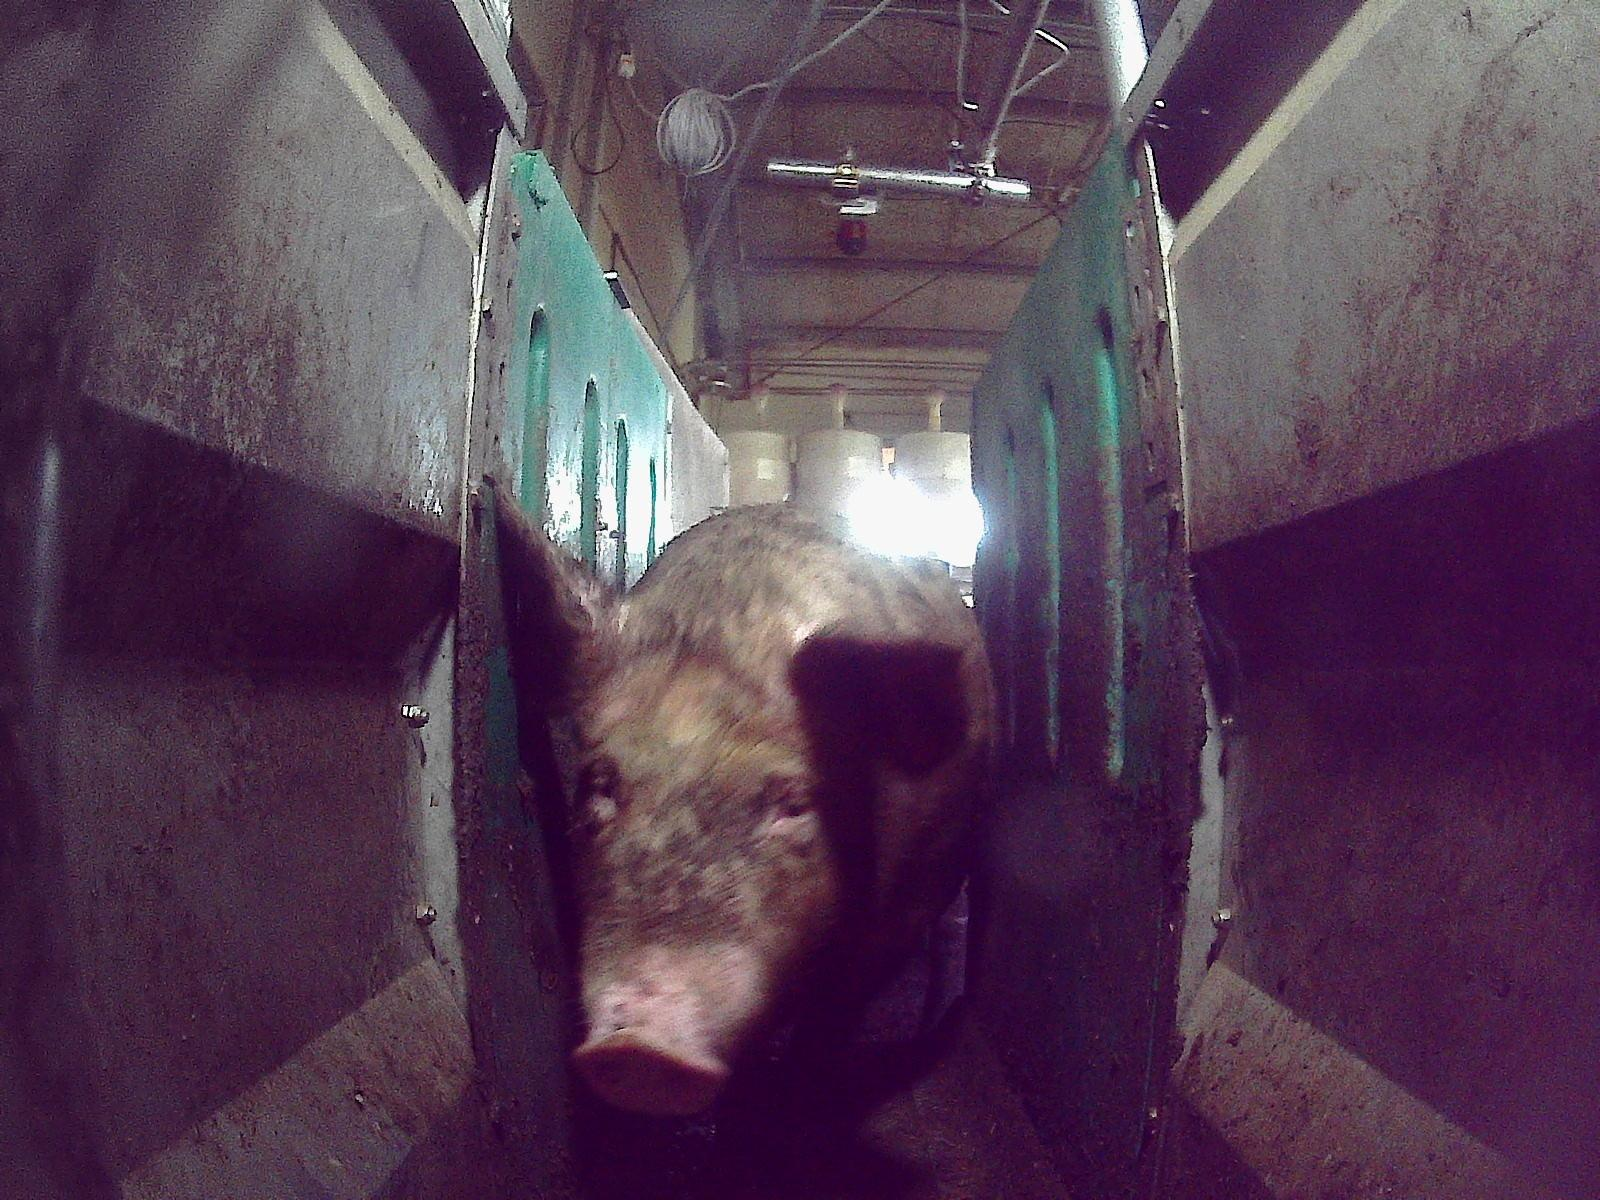Face: (568, 630, 858, 1112)
